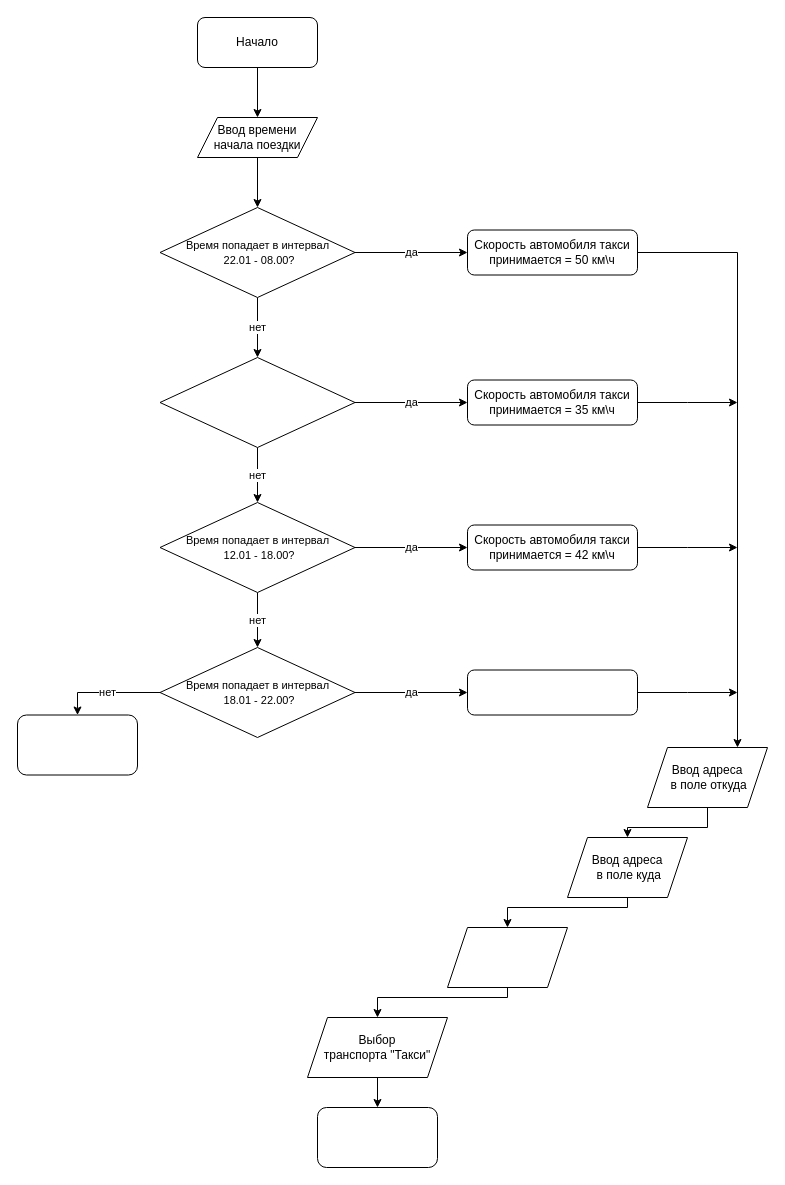
The diagram is 785 pixels wide and 1185 high, and some of its shapes have lost their labels. The centre of each missing label's shape, as x and y in pixels:
Время попадает в интервал 08.01 - 12.00?: (x=257, y=402)
Выбор режима поездки "Свой": (x=507, y=957)
Нажать на кнопку вызвать такси: (x=377, y=1137)
Проверь время: (x=77, y=744)
Скорость автомобиля такси принимается = 30 км\ч: (x=552, y=692)
